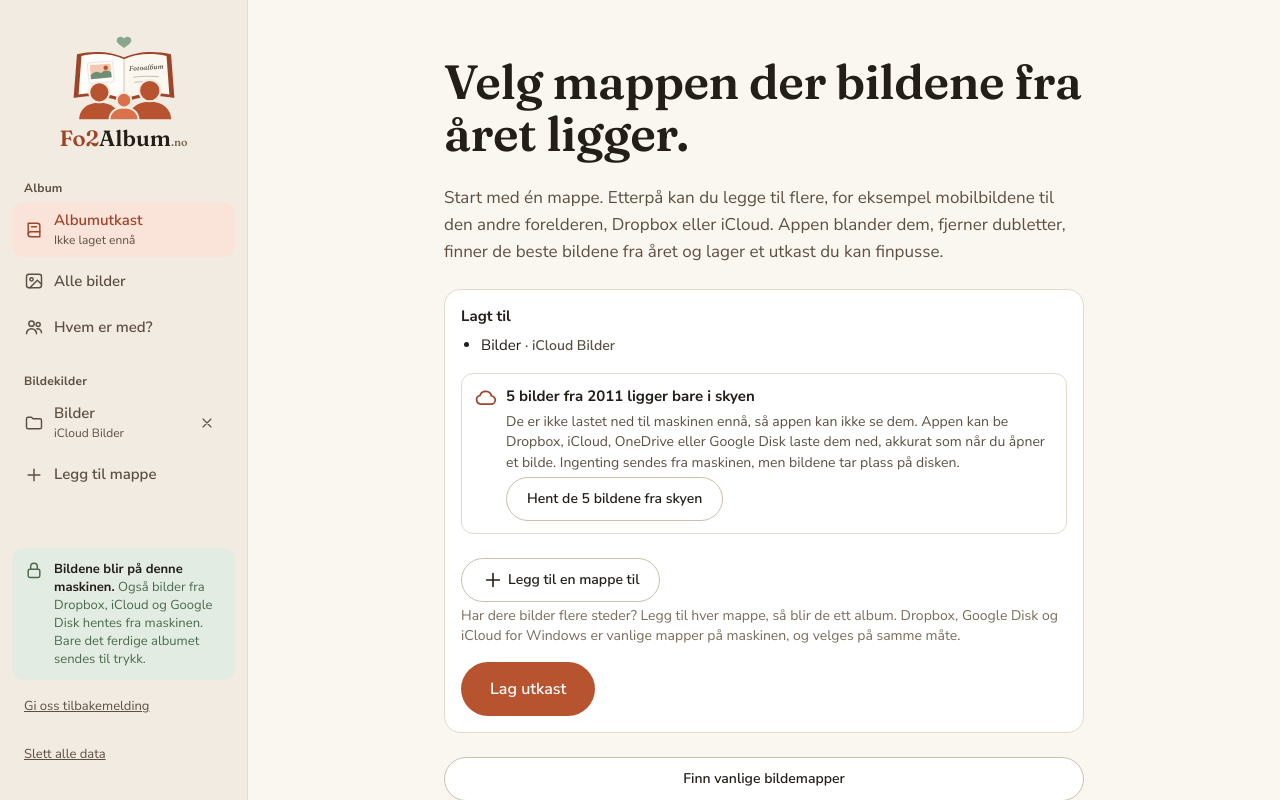
Test: albumutkast › bytter bilder og spør forsiktig hvorfor
Click the button "Lag utkast" at (528, 689), box [461, 662, 595, 716]
(page scrolled)
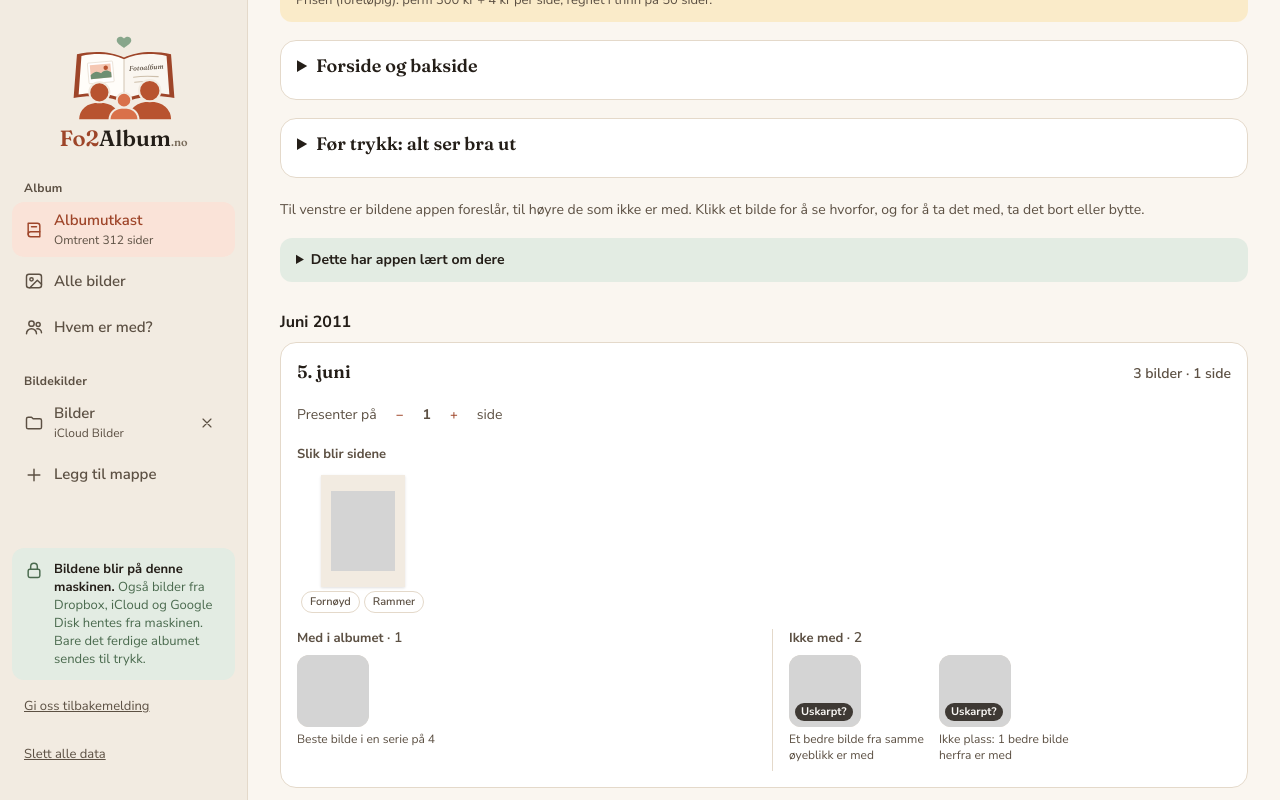
Click the button with aria-label "med. Beste bilde i en serie" at (371, 701), box [297, 655, 445, 747]
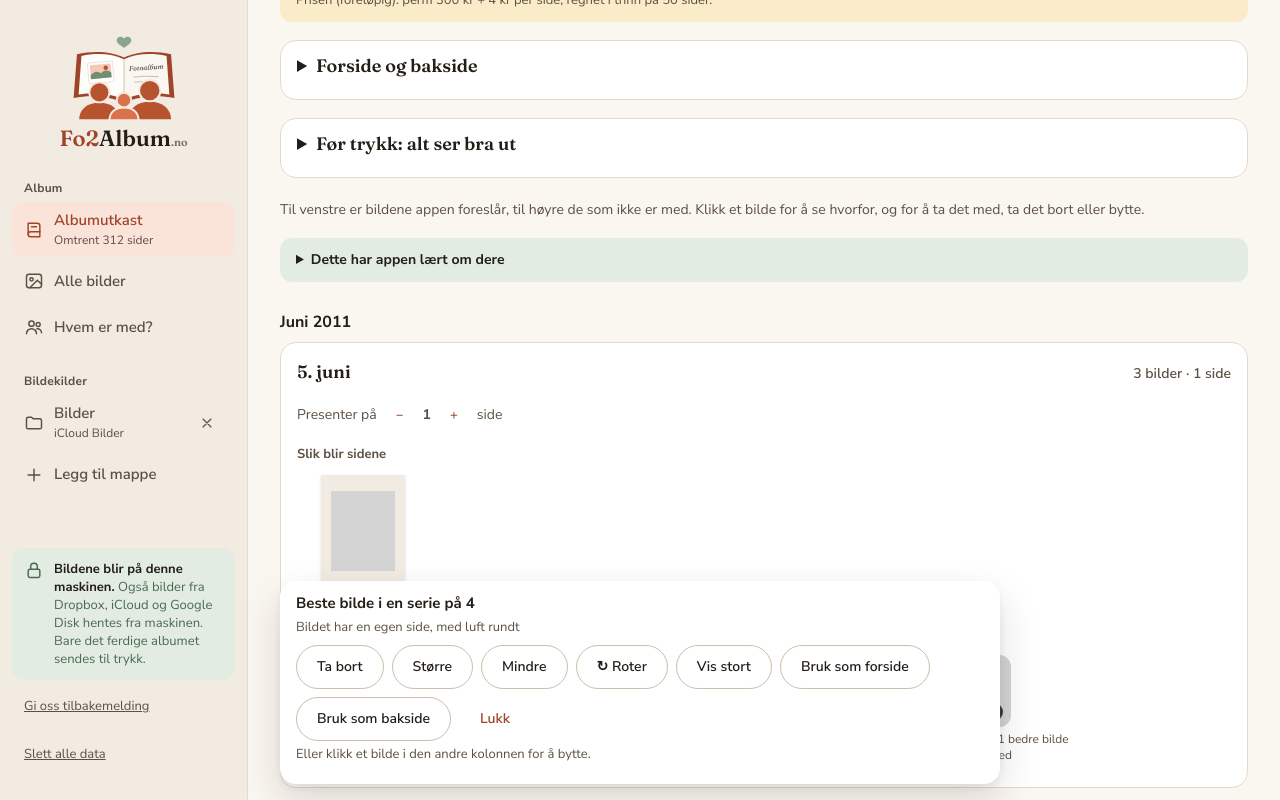
Click the button with aria-label "ikke med. Ikke plass" at (1010, 709), box [939, 655, 1081, 763]
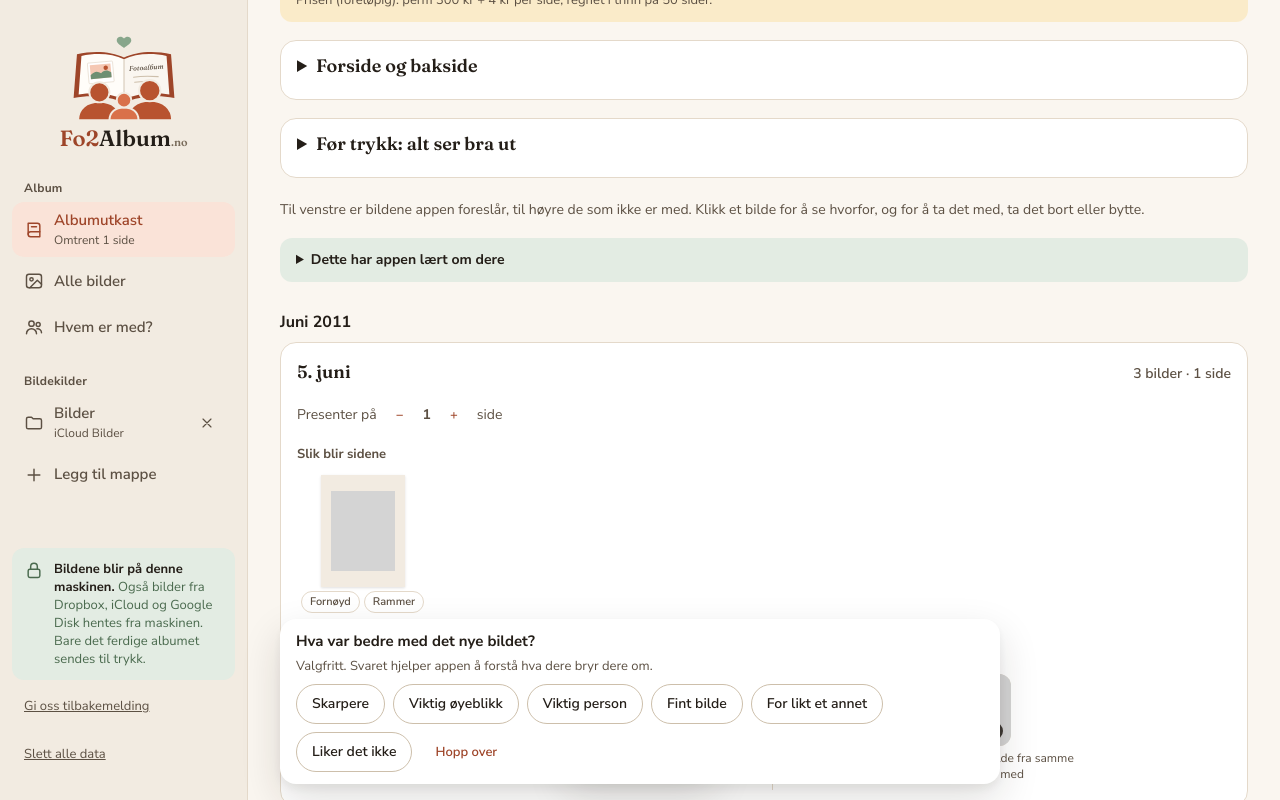
Result: the text "Hva var bedre med det nye bildet?" is shown at [296, 631, 535, 651]
Click the button "Viktig øyeblikk" at (456, 704), box [393, 684, 519, 724]
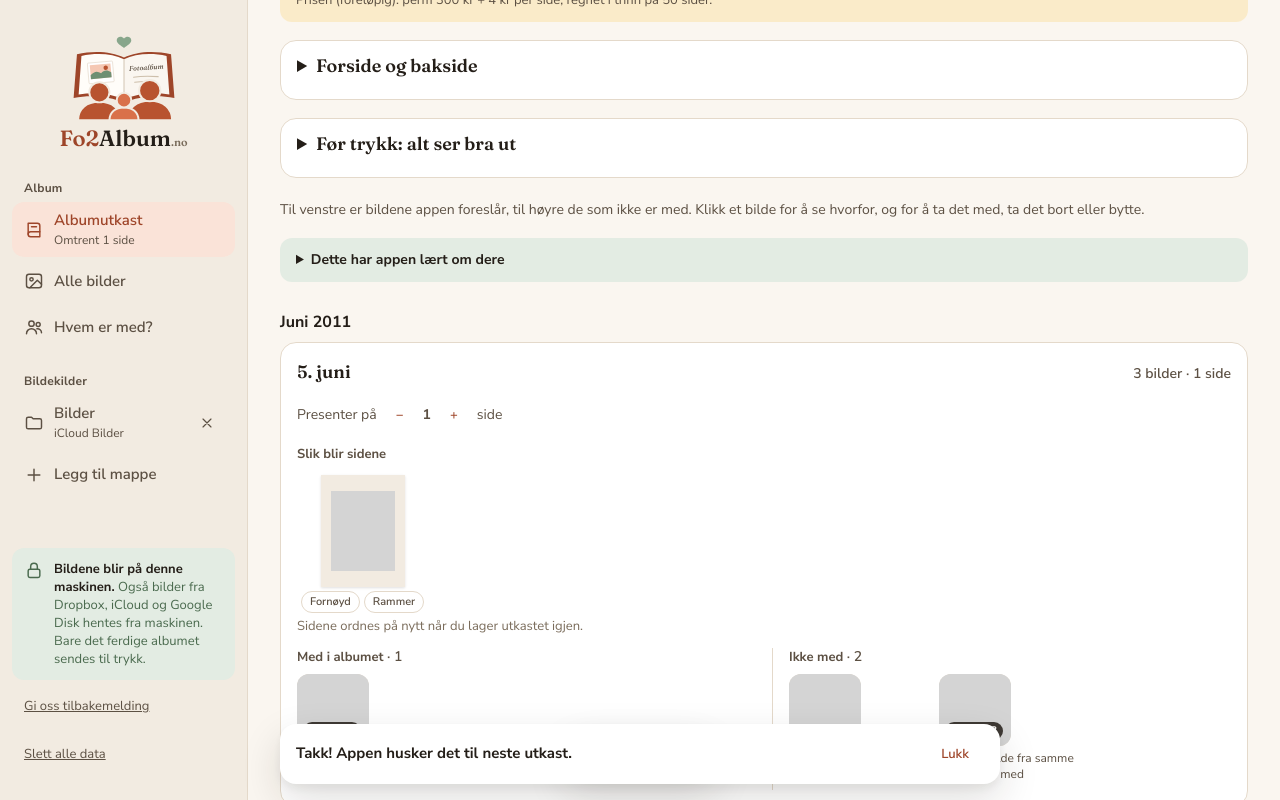
Result: the text "Du valgte dette" is shown once at [297, 750, 380, 766]
Result: the text "Takk! Appen husker det til neste utkast." is shown at [296, 743, 572, 763]
